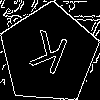K: (23, 29, 70, 85)
